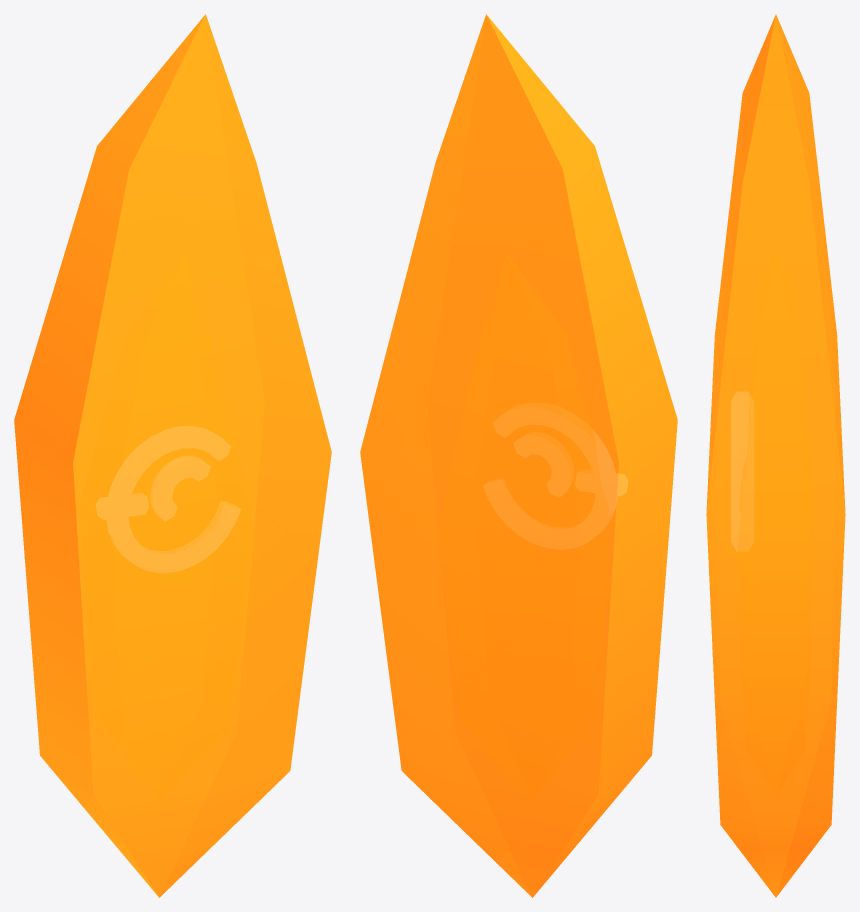
The model's file is shard_amber_blade.glb.
The picture shows the model from 3 angles, left to right: view 1: azimuth 30°, elevation 25°; view 2: azimuth 150°, elevation 25°; view 3: azimuth 270°, elevation 25°; orthographic projection. The views are drawn at different scales.
Visible parts, largest first — view 1: shard_amber_blade; view 2: shard_amber_blade; view 3: shard_amber_blade.
Boxes of the visible parts, x1,y1,x2,y2 form: shard_amber_blade: (14, 14, 331, 897); shard_amber_blade: (360, 14, 677, 897); shard_amber_blade: (706, 14, 845, 897).
Bounding box in the file's own units: 0.11 × 0.36 × 0.05.
